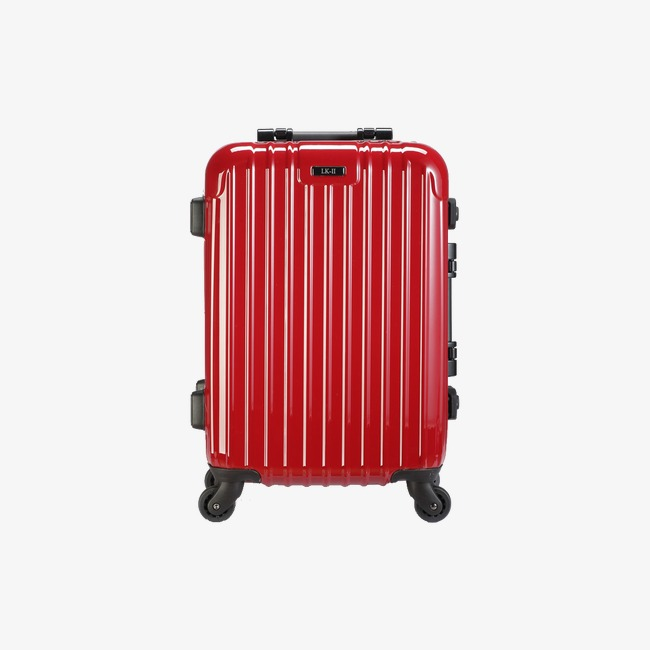box: (205, 143, 449, 487)
handle: (256, 127, 394, 143)
wheel: (198, 485, 235, 523), (415, 486, 452, 524)
